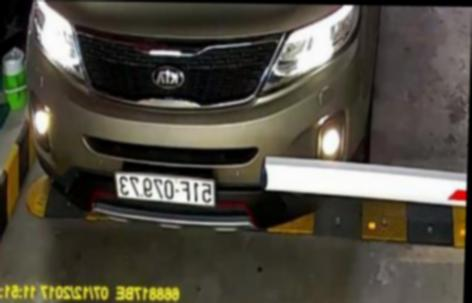License_Plate: (113, 166, 228, 207)
